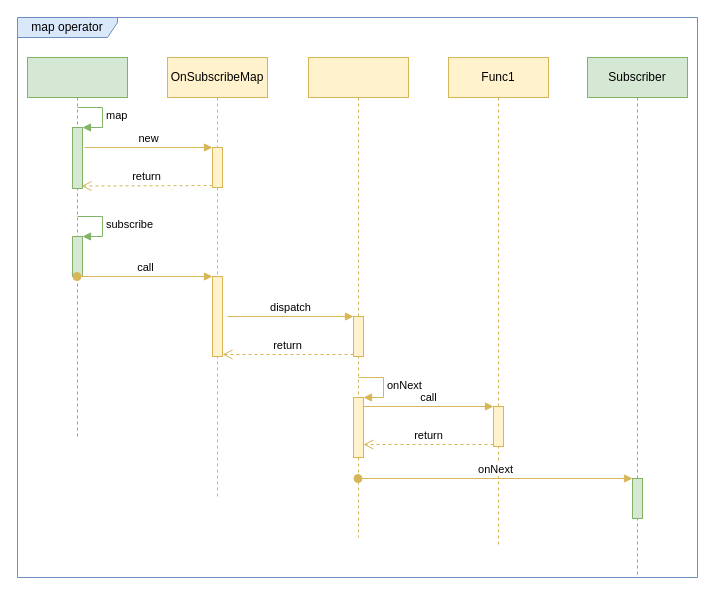
This 715x595 diagram has some shape labels left out. The shapes that lost their labels are listed below. From the top down, each one's centre as x and y in pixels, then its label:
At pixel 77 247: "Observable".
At pixel 358 297: "MapSubscriber".
